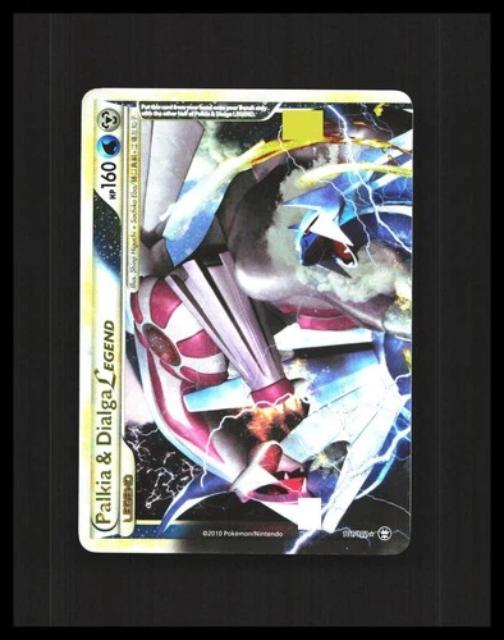Card: (74, 84, 416, 560)
Name: (89, 309, 119, 527)
